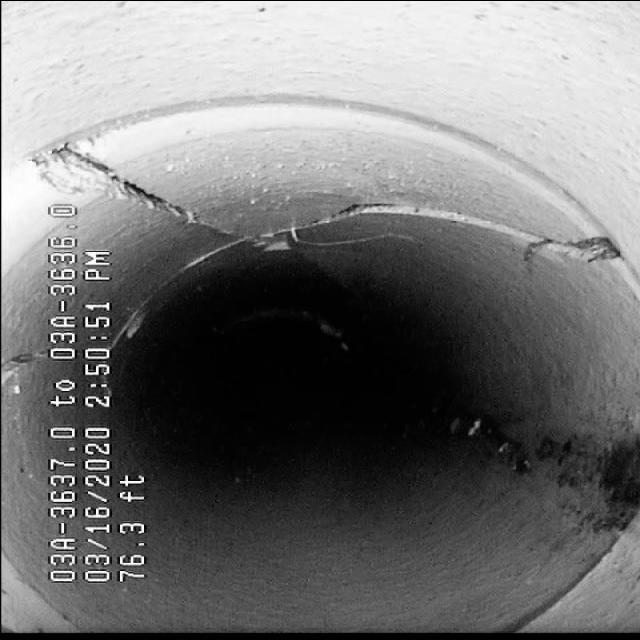Fracture: (209, 180, 571, 259), (34, 118, 188, 224)
